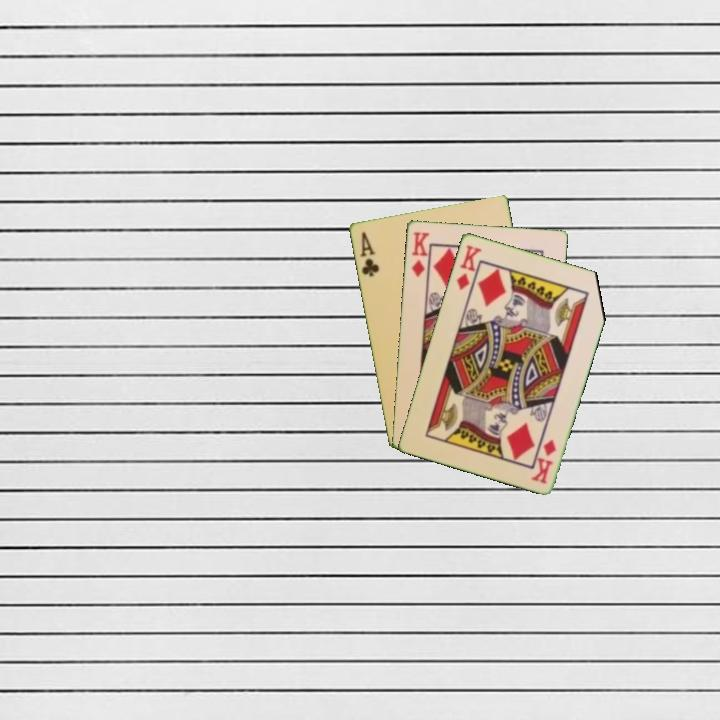Ac: (356, 228, 382, 279)
Kd: (452, 241, 484, 293), (528, 436, 559, 486), (408, 228, 432, 280)
